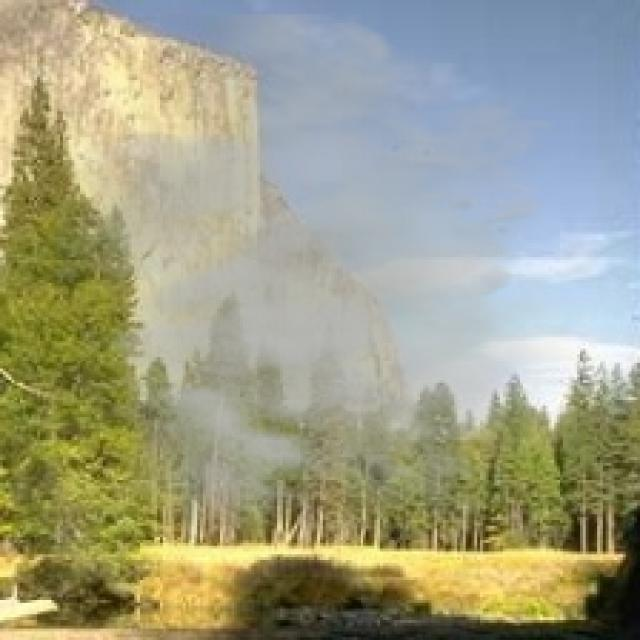smoke: (54, 14, 609, 557)
